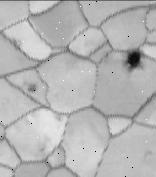good_void: (122, 48, 147, 71), (34, 134, 52, 156), (6, 35, 24, 52), (24, 80, 39, 95), (51, 111, 62, 122)
